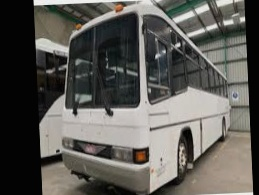bus: (54, 0, 235, 195)
